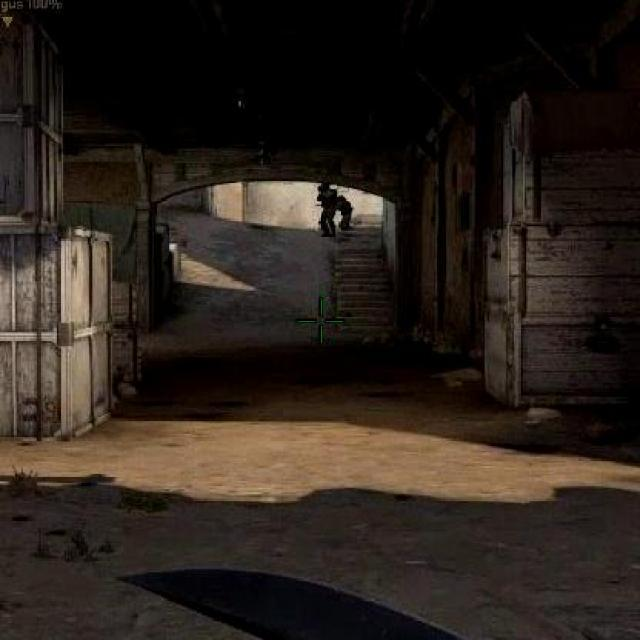CT: (315, 182, 337, 235), (334, 194, 354, 234)
CT_HEAD: (317, 183, 332, 194), (337, 195, 345, 203)
